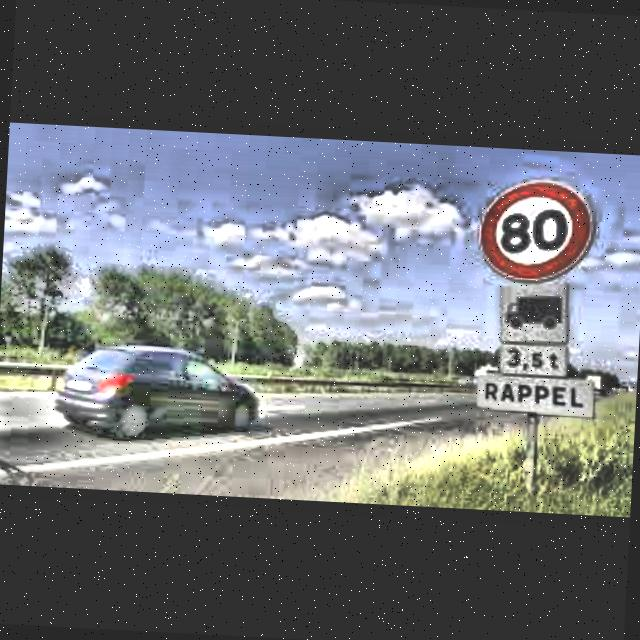speed_80: (478, 178, 594, 286)
